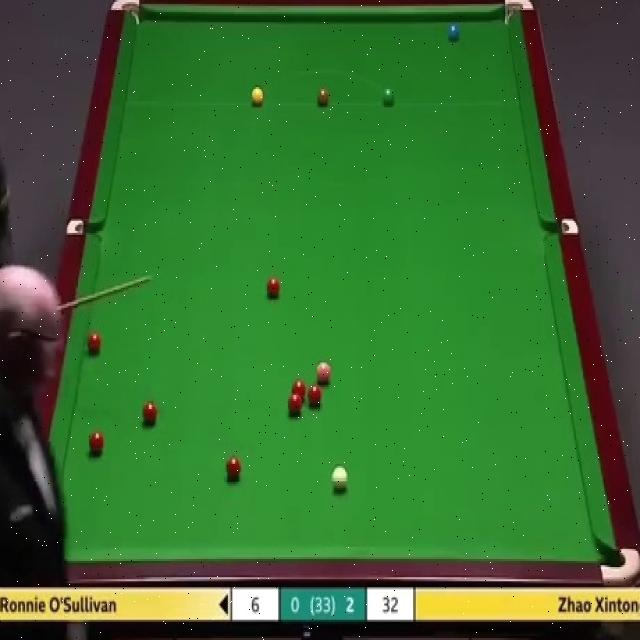blue-ball: (446, 18, 462, 43)
brown-ball: (317, 88, 330, 109)
green-ball: (382, 87, 396, 109)
pink-ball: (313, 361, 331, 386)
red-ball: (88, 430, 105, 458), (225, 455, 242, 482), (141, 403, 158, 429), (266, 275, 282, 300), (86, 331, 101, 356), (306, 384, 323, 406), (287, 394, 303, 417), (290, 380, 307, 400)
white-ball: (330, 461, 349, 492)
yellow-ball: (251, 86, 264, 108)
